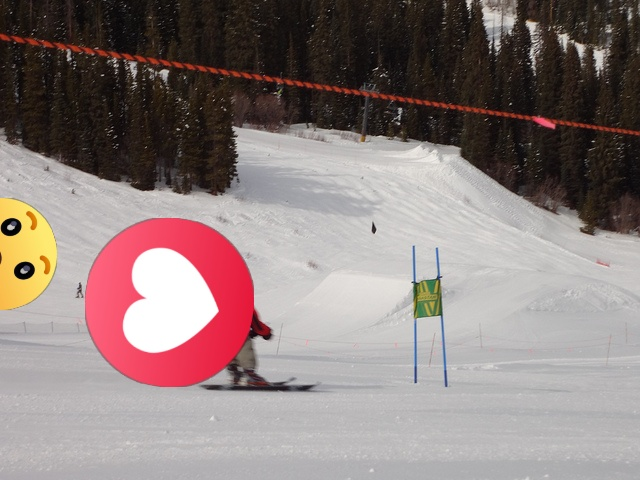love: (85, 218, 254, 387)
wow: (0, 198, 57, 310)
